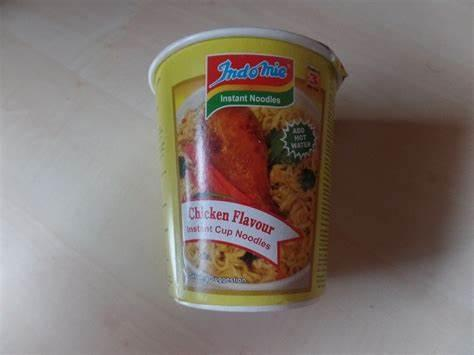metal: (149, 28, 348, 312)
